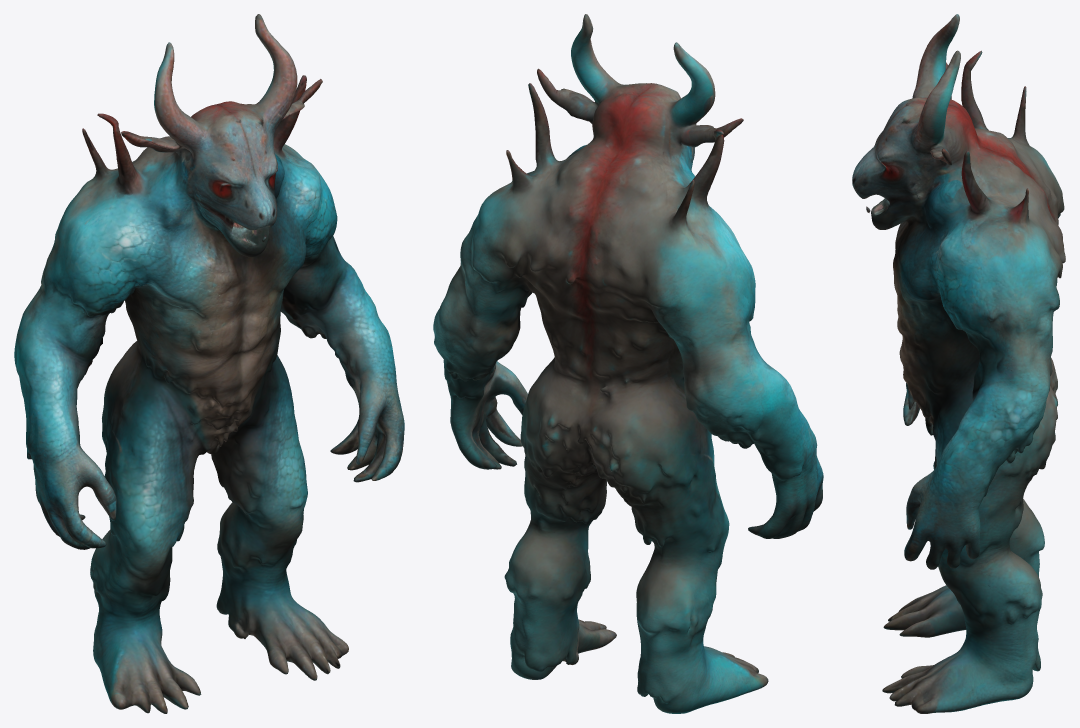
File: Create_a_hyper_realis_0208065556_texture.fbx
3 views of the same model, side by side, from view 1: azimuth 30°, elevation 25°; view 2: azimuth 150°, elevation 25°; view 3: azimuth 270°, elevation 25° (orthographic). The views are drawn at different scales.
Visible parts, largest first — view 1: Mesh1_Mesh1.036; view 2: Mesh1_Mesh1.036; view 3: Mesh1_Mesh1.036.
Boxes of the visible parts, bbox=[...] form: Mesh1_Mesh1.036: bbox=[14, 14, 404, 713]; Mesh1_Mesh1.036: bbox=[433, 14, 823, 713]; Mesh1_Mesh1.036: bbox=[852, 14, 1065, 713].
Size of the model in its own units: 116 by 200 by 61.17.
Materials: 1 (1 with a texture image).
